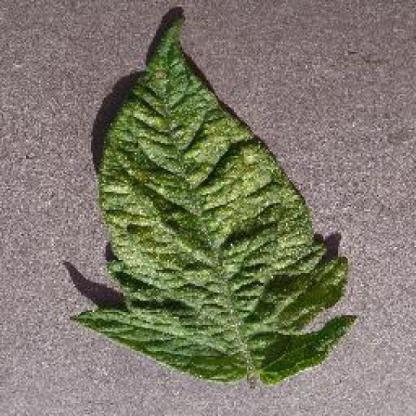Tomato_Spider_Mites: (73, 15, 354, 380)
